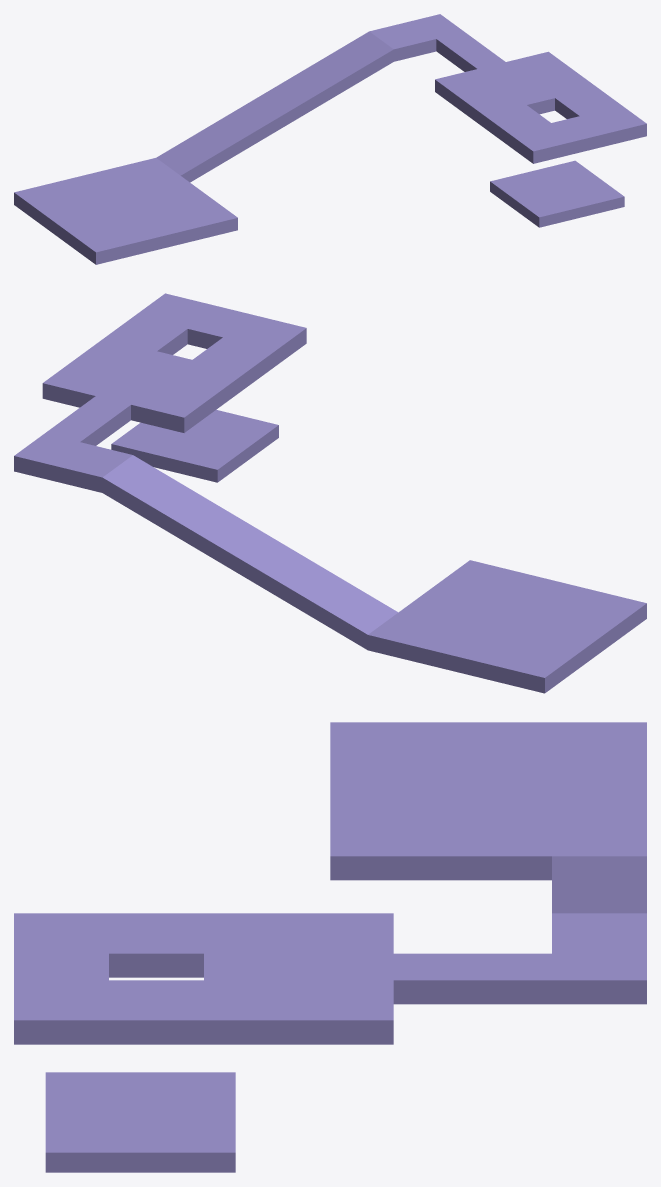
File: boxo02.gltf
3 renders of one model, top to bottom at view 1: azimuth 30°, elevation 25°; view 2: azimuth 150°, elevation 25°; view 3: azimuth 270°, elevation 25°, orthographic. The views are drawn at different scales.
Visible parts, largest first — view 1: Cube, Cube.001; view 2: Cube, Cube.001; view 3: Cube, Cube.001.
Boxes of the visible parts, box(x1,y1,x2,y2) form: Cube: box(14, 14, 646, 264); Cube.001: box(490, 160, 624, 227); Cube: box(14, 293, 646, 693); Cube.001: box(111, 409, 278, 482); Cube: box(14, 722, 646, 1044); Cube.001: box(45, 1072, 235, 1172).
Size of the model in its own units: 33 by 5.84 by 20.
